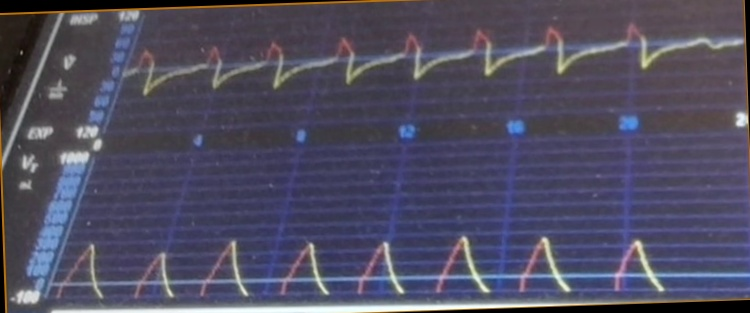Ineffective_effort Flow: (131, 18, 741, 103)
Ineffective_effort Volume: (56, 229, 670, 298)
